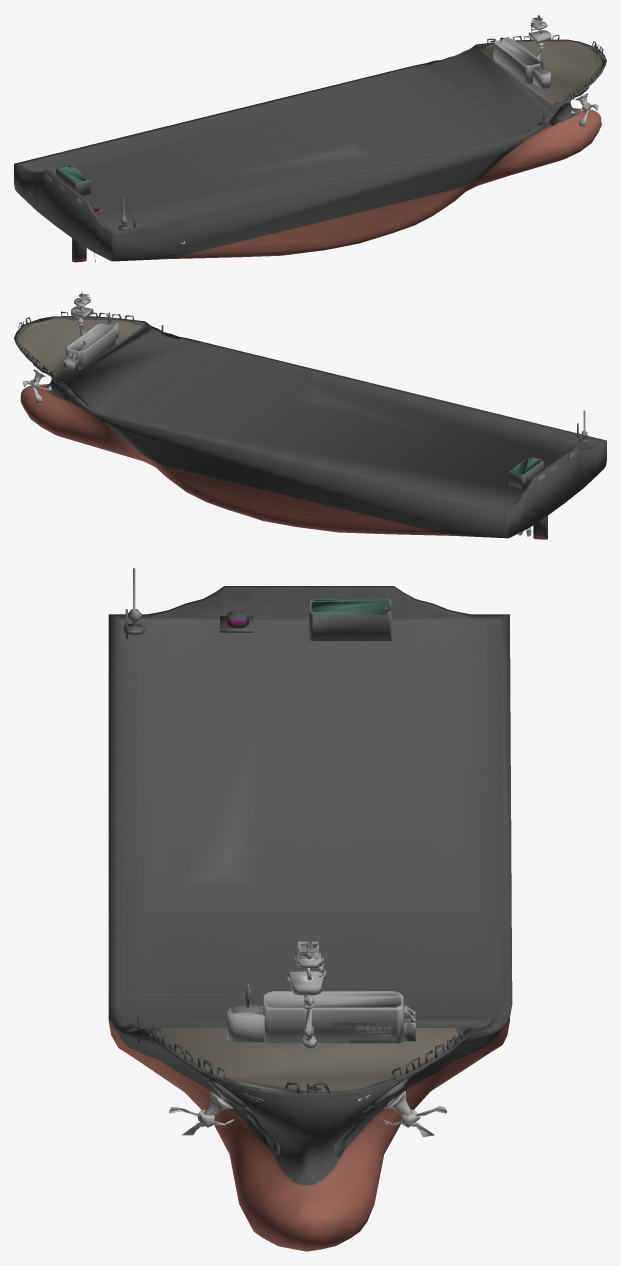
The model's file is selected.glb.
3 views of the same model, one above another, from view 1: azimuth 30°, elevation 25°; view 2: azimuth 150°, elevation 25°; view 3: azimuth 270°, elevation 25° (orthographic). The views are drawn at different scales.
Visible parts, largest first — view 1: tripo_node_bb2f8095-c2a5-469f-91a5-88c68b139010; view 2: tripo_node_bb2f8095-c2a5-469f-91a5-88c68b139010; view 3: tripo_node_bb2f8095-c2a5-469f-91a5-88c68b139010.
Part boxes in pixels (box(x1,y1,x2,y2)): tripo_node_bb2f8095-c2a5-469f-91a5-88c68b139010: box(14, 15, 606, 262); tripo_node_bb2f8095-c2a5-469f-91a5-88c68b139010: box(14, 291, 606, 539); tripo_node_bb2f8095-c2a5-469f-91a5-88c68b139010: box(108, 568, 512, 1251).
Bounding box in the file's own units: 0.998 × 0.2559 × 0.3262.
Materials: 1 (1 with a texture image).
